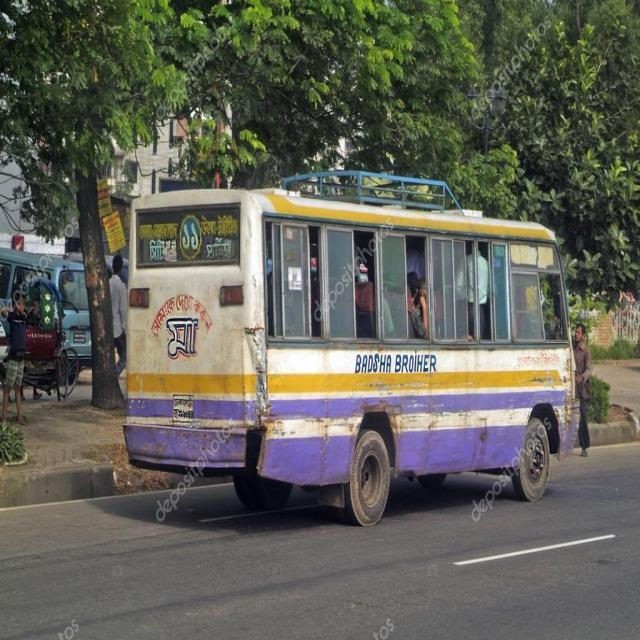bus: (122, 168, 581, 527)
